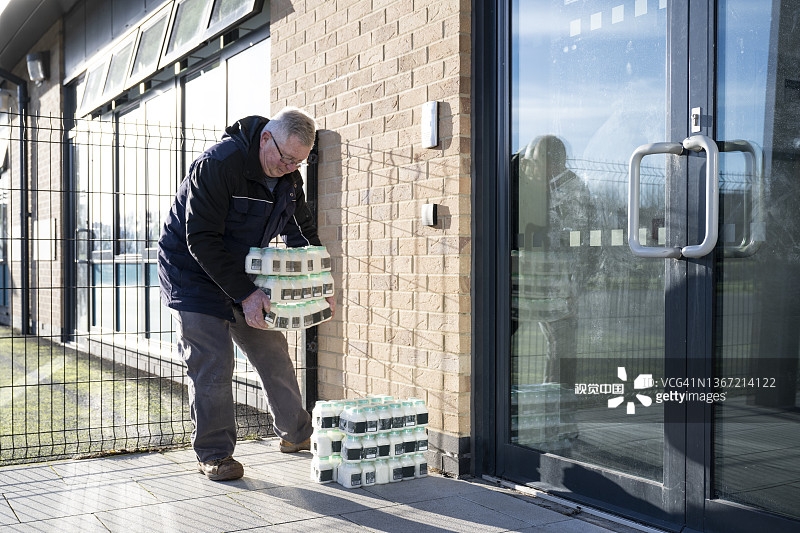no-phone: (226, 282, 276, 342)
